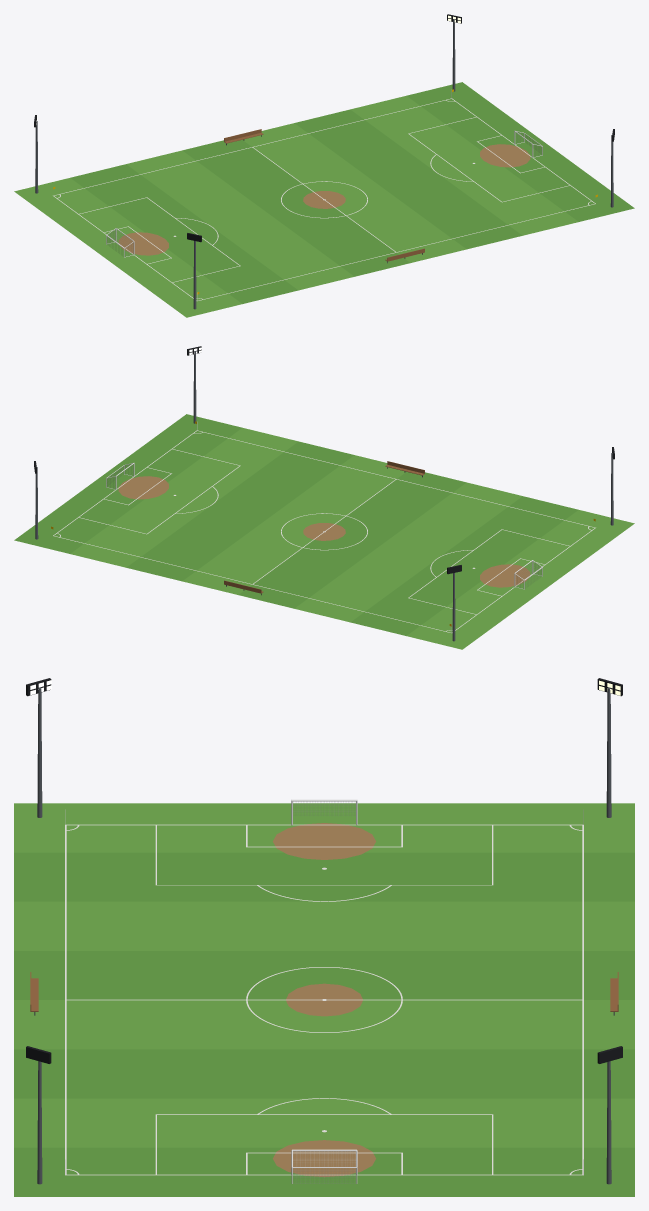
Rendered from campo-futebol.glb.
3 views of the same model, one above another, from view 1: azimuth 30°, elevation 25°; view 2: azimuth 150°, elevation 25°; view 3: azimuth 270°, elevation 25° (orthographic). The views are drawn at different scales.
Visible parts, largest first — view 1: GramadoClaro, GramadoEscuro, Linhas, Terra, Postes, Bancos; view 2: GramadoClaro, GramadoEscuro, Linhas, Terra, Postes, Bancos; view 3: GramadoClaro, GramadoEscuro, Terra, Linhas, Postes.
Part boxes in pixels (left/top/right/bottom): GramadoClaro: left=14, top=96, right=578, bottom=317; GramadoEscuro: left=70, top=82, right=634, bottom=303; Linhas: left=53, top=98, right=595, bottom=300; Terra: left=118, top=144, right=530, bottom=255; Postes: left=34, top=14, right=614, bottom=309; Bancos: left=224, top=129, right=424, bottom=263; GramadoClaro: left=70, top=428, right=634, bottom=649; GramadoEscuro: left=14, top=414, right=578, bottom=635; Linhas: left=53, top=430, right=595, bottom=632; Terra: left=118, top=476, right=530, bottom=587; Postes: left=34, top=346, right=614, bottom=641; Bancos: left=224, top=461, right=424, bottom=595; GramadoClaro: left=14, top=803, right=634, bottom=1147; GramadoEscuro: left=14, top=852, right=634, bottom=1196; Terra: left=273, top=823, right=375, bottom=1177; Linhas: left=65, top=824, right=583, bottom=1175; Postes: left=26, top=678, right=622, bottom=1184.
Bounding box in the file's own units: 72 × 11.6 × 48.
